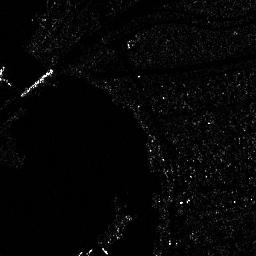ship: (115, 215, 132, 241)
